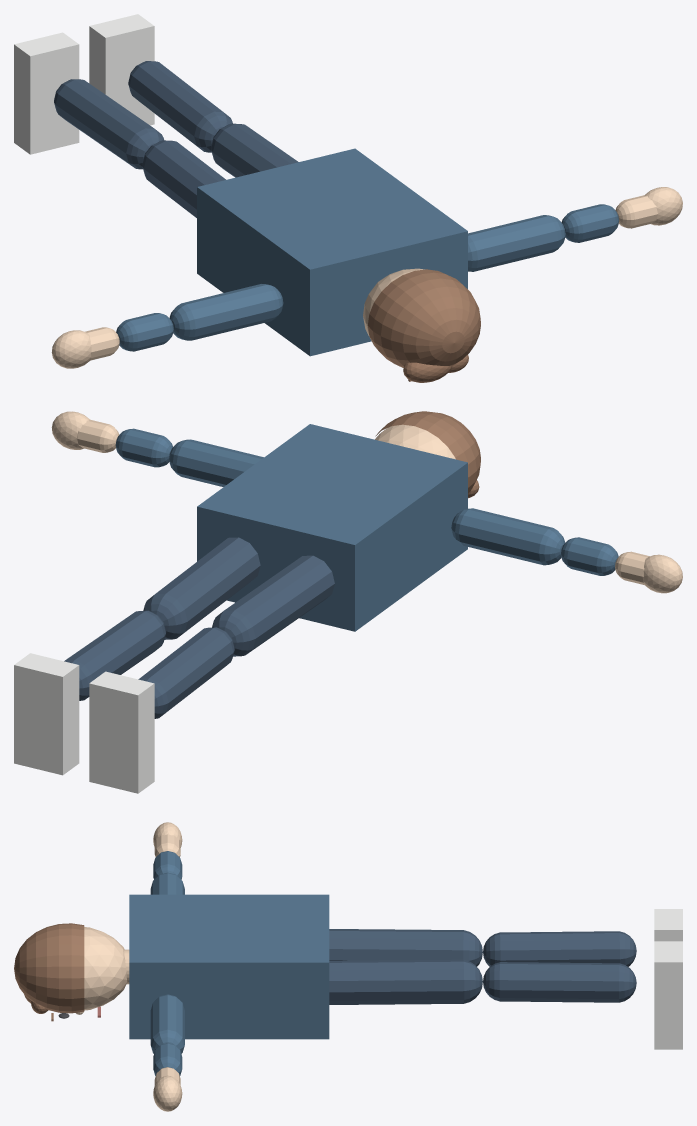
Rendered from char_male.glb.
The picture shows the model from 3 angles, top to bottom: view 1: azimuth 30°, elevation 25°; view 2: azimuth 150°, elevation 25°; view 3: azimuth 270°, elevation 25°; orthographic projection. The views are drawn at different scales.
Parts seen in each view (by area): view 1: CHAR_MALE_001_torso_jacket, CHAR_MALE_001_hair_cap, CHAR_MALE_001_shoe_L, CHAR_MALE_001_shin_L, CHAR_MALE_001_shoe_R, CHAR_MALE_001_shin_R, CHAR_MALE_001_upper_arm_L, CHAR_MALE_001_upper_arm_R, CHAR_MALE_001_thigh_L, CHAR_MALE_001_thigh_R, CHAR_MALE_001_forearm_L, CHAR_MALE_001_forearm_R (+6 smaller); view 2: CHAR_MALE_001_torso_jacket, CHAR_MALE_001_shoe_R, CHAR_MALE_001_shoe_L, CHAR_MALE_001_thigh_L, CHAR_MALE_001_thigh_R, CHAR_MALE_001_upper_arm_L, CHAR_MALE_001_shin_L, CHAR_MALE_001_shin_R, CHAR_MALE_001_upper_arm_R, CHAR_MALE_001_hair_cap, CHAR_MALE_001_forearm_L, CHAR_MALE_001_forearm_R (+5 smaller); view 3: CHAR_MALE_001_torso_jacket, CHAR_MALE_001_thigh_R, CHAR_MALE_001_shin_R, CHAR_MALE_001_hair_cap, CHAR_MALE_001_thigh_L, CHAR_MALE_001_shin_L, CHAR_MALE_001_shoe_R, CHAR_MALE_001_head, CHAR_MALE_001_upper_arm_R, CHAR_MALE_001_shoe_L, CHAR_MALE_001_hand_R, CHAR_MALE_001_forearm_R (+3 smaller).
Part boxes in pixels (x1,y1,x2,y2): CHAR_MALE_001_torso_jacket: (197,148,467,356); CHAR_MALE_001_hair_cap: (367,269,480,367); CHAR_MALE_001_shoe_L: (14,32,79,154); CHAR_MALE_001_shin_L: (54,79,163,169); CHAR_MALE_001_shoe_R: (89,14,154,125); CHAR_MALE_001_shin_R: (128,61,232,152); CHAR_MALE_001_upper_arm_L: (169,284,283,340); CHAR_MALE_001_upper_arm_R: (468,215,565,271); CHAR_MALE_001_thigh_L: (142,140,225,217); CHAR_MALE_001_thigh_R: (211,123,298,177); CHAR_MALE_001_forearm_L: (116,313,173,351); CHAR_MALE_001_forearm_R: (561,204,618,242); CHAR_MALE_001_torso_jacket: (197,424,467,631); CHAR_MALE_001_shoe_R: (14,653,79,775); CHAR_MALE_001_shoe_L: (89,671,154,793); CHAR_MALE_001_thigh_L: (212,555,334,656); CHAR_MALE_001_thigh_R: (143,537,260,639); CHAR_MALE_001_upper_arm_L: (451,508,565,565); CHAR_MALE_001_shin_L: (138,627,234,718); CHAR_MALE_001_shin_R: (64,610,165,700); CHAR_MALE_001_upper_arm_R: (169,439,263,486); CHAR_MALE_001_hair_cap: (375,411,480,493); CHAR_MALE_001_forearm_L: (561,537,618,575); CHAR_MALE_001_forearm_R: (115,428,172,467); CHAR_MALE_001_torso_jacket: (129,894,329,1039); CHAR_MALE_001_thigh_R: (329,959,482,1004); CHAR_MALE_001_shin_R: (483,962,636,1002); CHAR_MALE_001_hair_cap: (14,923,84,1013); CHAR_MALE_001_thigh_L: (329,929,482,966); CHAR_MALE_001_shin_L: (483,931,636,966); CHAR_MALE_001_shoe_R: (654,941,682,1049); CHAR_MALE_001_head: (84,927,127,1010); CHAR_MALE_001_upper_arm_R: (150,994,184,1053); CHAR_MALE_001_shoe_L: (654,909,682,941); CHAR_MALE_001_hand_R: (153,1075,182,1111); CHAR_MALE_001_forearm_R: (153,1043,182,1075).
Bounding box in the file's own units: 1.69 × 0.2734 × 1.76.
